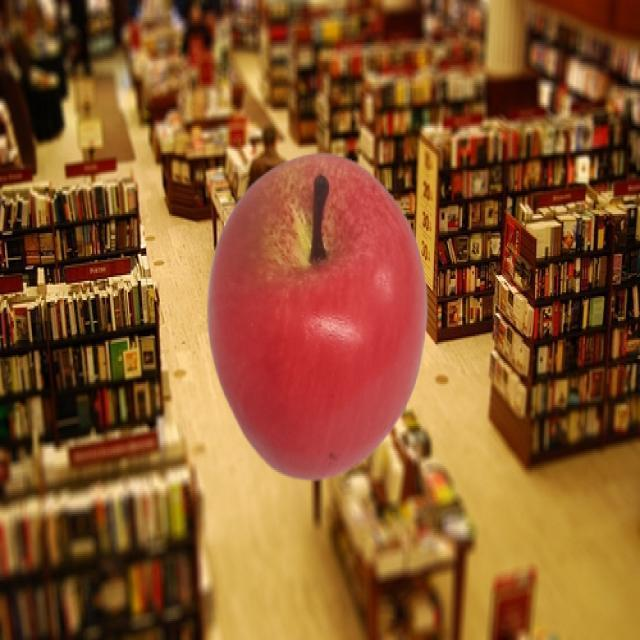apple: (205, 150, 428, 480)
